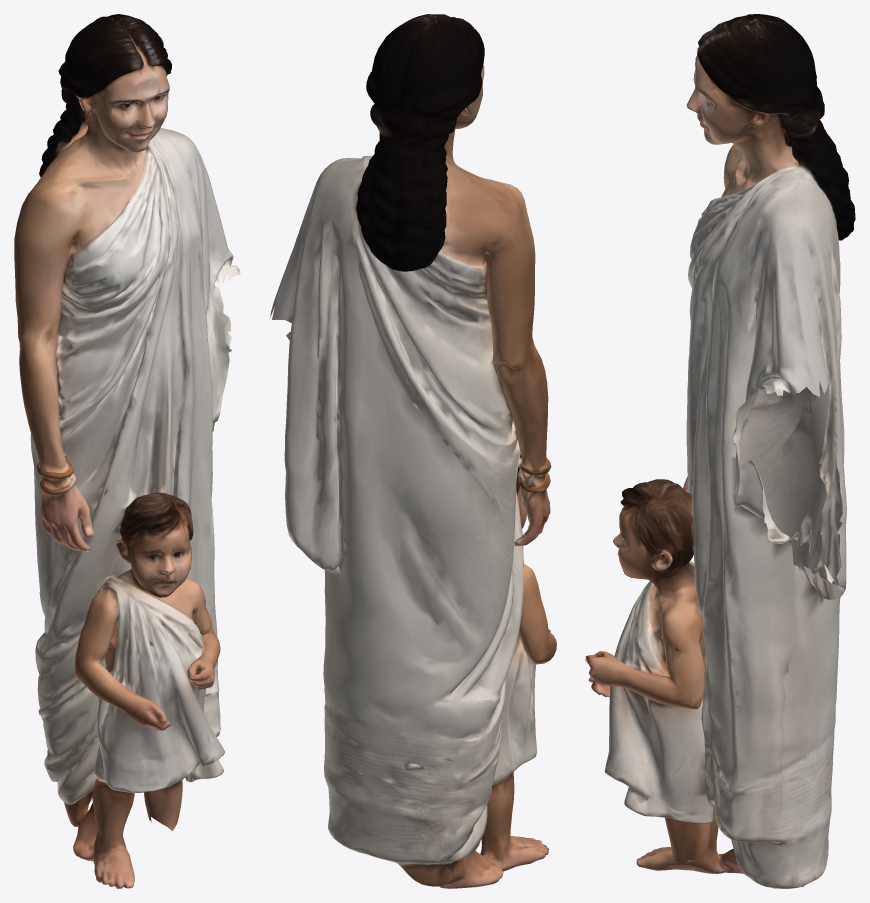
The model's file is crowd_pregnant_woman_mother_repaired.glb.
The picture shows the model from 3 angles, left to right: view 1: azimuth 30°, elevation 25°; view 2: azimuth 150°, elevation 25°; view 3: azimuth 270°, elevation 25°; orthographic projection. The views are drawn at different scales.
Visible parts, largest first — view 1: crowd_pregnant_woman_mother; view 2: crowd_pregnant_woman_mother; view 3: crowd_pregnant_woman_mother.
Boxes of the visible parts, x1,y1,x2,y2 form: crowd_pregnant_woman_mother: (14,14,240,888); crowd_pregnant_woman_mother: (270,14,556,888); crowd_pregnant_woman_mother: (585,14,855,888).
Size of the model in its own units: 0.5642 by 1.9 by 0.5347.
Materials: 1 (1 with a texture image).
